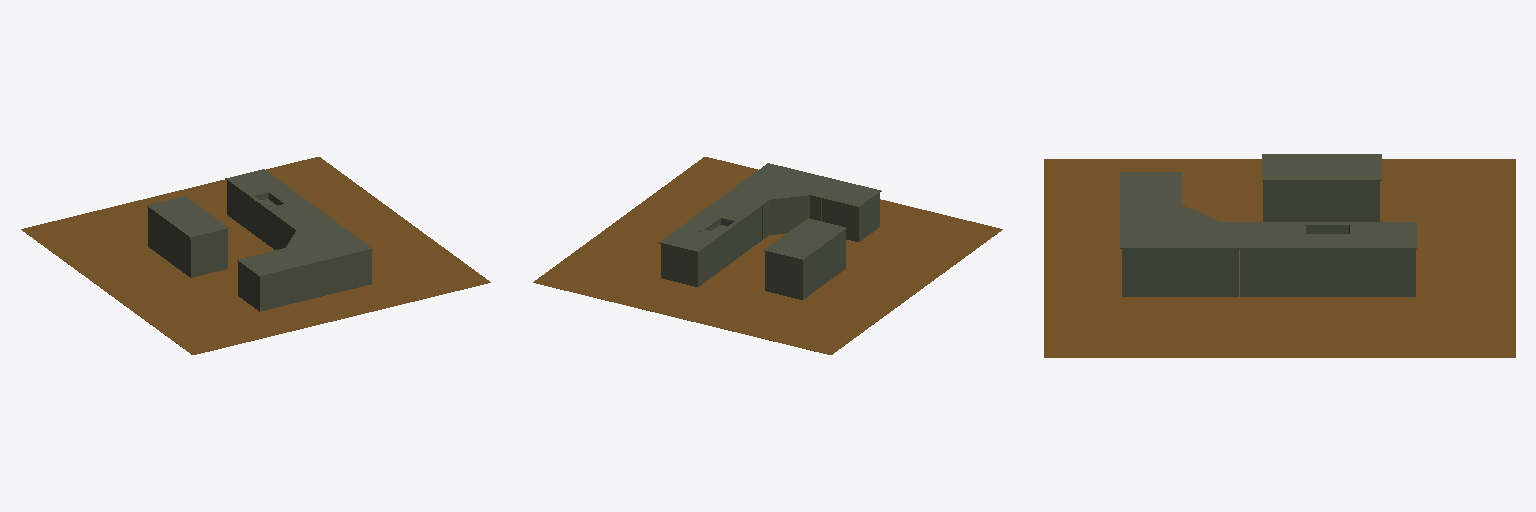
The robot description file, URDF, robot "Kitchen_static":
<?xml version="1.0"?>
<!-- created with Phobos 1.0.1 "Capricious Choutengan" -->
  <robot name="Kitchen_static">

    <link name="countertop1_link">
      <inertial>
        <origin xyz="0 0 0" rpy="0 0 0"/>
        <mass value="0.001"/>
        <inertia ixx="0.001" ixy="0" ixz="0" iyy="0.001" iyz="0" izz="0.001"/>
      </inertial>
      <visual name="Countertop_Top1">
        <origin xyz="0 -0.00258 -0.00031" rpy="0 0 0"/>
        <geometry>
          <mesh filename="package://Kitchen_static/meshes/dae/Cube.152.dae" scale="1.0 1.0 1.0"/>
        </geometry>
        <material name="GenericCounterMaterial"/>
      </visual>
      <collision name="Countertop_Top1.000">
        <origin xyz="0 -0.00258 -0.00061" rpy="0 0 0"/>
        <geometry>
          <mesh filename="package://Kitchen_static/meshes/dae/Cube.153.dae" scale="1.0 1.0 1.0"/>
        </geometry>
      </collision>
    </link>

    <link name="countertop_corner_link">
      <inertial>
        <origin xyz="0 0 0" rpy="0 0 0"/>
        <mass value="0.001"/>
        <inertia ixx="0.001" ixy="0" ixz="0" iyy="0.001" iyz="0" izz="0.001"/>
      </inertial>
      <visual name="Countertop_Corner_Base">
        <origin xyz="0 0 0" rpy="0 0 0"/>
        <geometry>
          <mesh filename="package://Kitchen_static/meshes/dae/Cube.154.dae" scale="1.0 1.0 1.0"/>
        </geometry>
        <material name="GenericCounterMaterial"/>
      </visual>
      <collision name="Countertop_Corner_Base.000">
        <origin xyz="0.0007 -0.00555 0.0003" rpy="0 0 0"/>
        <geometry>
          <mesh filename="package://Kitchen_static/meshes/dae/Cube.158.dae" scale="1.0 1.0 1.0"/>
        </geometry>
      </collision>
    </link>

    <link name="countertop_edge_link">
      <inertial>
        <origin xyz="0 0 0" rpy="0 0 0"/>
        <mass value="0.001"/>
        <inertia ixx="0.001" ixy="0" ixz="0" iyy="0.001" iyz="0" izz="0.001"/>
      </inertial>
      <visual name="Countertop_Top.001">
        <origin xyz="0 0 0" rpy="0 0 0"/>
        <geometry>
          <mesh filename="package://Kitchen_static/meshes/dae/Cube.155.dae" scale="1.0 1.0 1.0"/>
        </geometry>
        <material name="GenericCounterMaterial"/>
      </visual>
      <collision name="Countertop_Top.001.000">
        <origin xyz="0 0 6e-05" rpy="0 0 0"/>
        <geometry>
          <mesh filename="package://Kitchen_static/meshes/dae/Cube.156.dae" scale="1.0 1.0 1.0"/>
        </geometry>
      </collision>
    </link>

    <link name="countertop_link">
      <inertial>
        <origin xyz="0 0 0" rpy="0 0 0"/>
        <mass value="0.001"/>
        <inertia ixx="0.001" ixy="0" ixz="0" iyy="0.001" iyz="0" izz="0.001"/>
      </inertial>
      <visual name="Countertop_Top">
        <origin xyz="0 0 0" rpy="0 0 0"/>
        <geometry>
          <mesh filename="package://Kitchen_static/meshes/dae/Cube.142.dae" scale="1.0 1.0 1.0"/>
        </geometry>
        <material name="GenericCounterMaterial"/>
      </visual>
      <collision name="Countertop_Top.col">
        <origin xyz="0 0 0.00015" rpy="0 0 0"/>
        <geometry>
          <mesh filename="package://Kitchen_static/meshes/dae/Cube.143.dae" scale="1.0 1.0 1.0"/>
        </geometry>
      </collision>
    </link>

    <link name="countertop_sink_link">
      <inertial>
        <origin xyz="0 0 0" rpy="0 0 0"/>
        <mass value="0.001"/>
        <inertia ixx="0.001" ixy="0" ixz="0" iyy="0.001" iyz="0" izz="0.001"/>
      </inertial>
      <visual name="Countertop_Sink">
        <origin xyz="0 0 0" rpy="0 0 0"/>
        <geometry>
          <mesh filename="package://Kitchen_static/meshes/dae/Cube.146.dae" scale="1.0 1.0 1.0"/>
        </geometry>
        <material name="GenericCounterMaterial"/>
      </visual>
      <collision name="Countertop_Sink.000">
        <origin xyz="0 0 -0.00261" rpy="0 0 0"/>
        <geometry>
          <mesh filename="package://Kitchen_static/meshes/dae/Cube.147.dae" scale="1.0 1.0 1.0"/>
        </geometry>
      </collision>
    </link>

    <link name="countertop_tall2_link">
      <inertial>
        <origin xyz="0 0 0" rpy="0 0 0"/>
        <mass value="0.001"/>
        <inertia ixx="0.001" ixy="0" ixz="0" iyy="0.001" iyz="0" izz="0.001"/>
      </inertial>
      <visual name="Countertop_Top_Taller2">
        <origin xyz="0 0 0" rpy="0 0 0"/>
        <geometry>
          <mesh filename="package://Kitchen_static/meshes/dae/Cube.008.dae" scale="1.0 1.0 1.0"/>
        </geometry>
        <material name="GenericCounterMaterial"/>
      </visual>
      <collision name="Countertop_Top_Taller2.000">
        <origin xyz="0 0 0.00057" rpy="0 0 0"/>
        <geometry>
          <mesh filename="package://Kitchen_static/meshes/dae/Cube.000.dae" scale="1.0 1.0 1.0"/>
        </geometry>
      </collision>
    </link>

    <link name="countertop_tall_link">
      <inertial>
        <origin xyz="0 0 0" rpy="0 0 0"/>
        <mass value="0.001"/>
        <inertia ixx="0.001" ixy="0" ixz="0" iyy="0.001" iyz="0" izz="0.001"/>
      </inertial>
      <visual name="Countertop_Top_Taller">
        <origin xyz="0 0 0" rpy="0 0 0"/>
        <geometry>
          <mesh filename="package://Kitchen_static/meshes/dae/Cube.157.dae" scale="1.0 1.0 1.0"/>
        </geometry>
        <material name="GenericCounterMaterial"/>
      </visual>
      <collision name="Countertop_Top_Taller.000">
        <origin xyz="0 0 -0.00019" rpy="0 0 0"/>
        <geometry>
          <mesh filename="package://Kitchen_static/meshes/dae/Cube.159.dae" scale="1.0 1.0 1.0"/>
        </geometry>
      </collision>
    </link>

    <link name="root_static">
      <inertial>
        <origin xyz="0 0 0" rpy="0 0 0"/>
        <mass value="0.001"/>
        <inertia ixx="0.001" ixy="0" ixz="0" iyy="0.001" iyz="0" izz="0.001"/>
      </inertial>
      <visual name="Floor">
        <origin xyz="0 0 0" rpy="0 0 0"/>
        <geometry>
          <box size="8.0 8.0 0.002"/>
        </geometry>
        <material name="Floor_Material"/>
      </visual>
      <collision name="Floor">
        <origin xyz="0 0 0" rpy="0 0 0"/>
        <geometry>
          <box size="8.0 8.0 0.002"/>
        </geometry>
      </collision>
    </link>

    <joint name="countertop1_link" type="fixed">
      <origin xyz="1.04436 -0.18407 0.90913" rpy="0 0 0"/>
      <parent link="root_static"/>
      <child link="countertop1_link"/>
    </joint>

    <joint name="countertop_corner_link" type="floating">
      <origin xyz="0.63422 -1.78146 0.44381" rpy="0 0 -3.14159"/>
      <parent link="root_static"/>
      <child link="countertop_corner_link"/>
    </joint>

    <joint name="countertop_edge_link" type="fixed">
      <origin xyz="-0.95636 -2.19209 0.90906" rpy="0 0 0"/>
      <parent link="root_static"/>
      <child link="countertop_edge_link"/>
    </joint>

    <joint name="countertop_link" type="fixed">
      <origin xyz="1.04436 1.80656 0.90913" rpy="0 0 0"/>
      <parent link="root_static"/>
      <child link="countertop_link"/>
    </joint>

    <joint name="countertop_sink_link" type="fixed">
      <origin xyz="1.04357 0.81118 0.90952" rpy="0 0 3.14154"/>
      <parent link="root_static"/>
      <child link="countertop_sink_link"/>
    </joint>

    <joint name="countertop_tall2_link" type="fixed">
      <origin xyz="-1.41531 1.20516 0.92078" rpy="0 0 0"/>
      <parent link="root_static"/>
      <child link="countertop_tall2_link"/>
    </joint>

    <joint name="countertop_tall_link" type="fixed">
      <origin xyz="-1.41586 0.20737 0.92078" rpy="0 0 0"/>
      <parent link="root_static"/>
      <child link="countertop_tall_link"/>
    </joint>

    <material name="Floor_Material">
      <color rgba="0.51303 0.37541 0.19019 1.0"/>
    </material>

    <material name="GenericCounterMaterial">
      <color rgba="0.36791 0.38159 0.31374 1.0"/>
    </material>

  </robot>

--- Facts derived from the render (not from the file) ---
The picture shows the robot from 3 angles, left to right: view 1: azimuth 30°, elevation 25°; view 2: azimuth 150°, elevation 25°; view 3: azimuth 270°, elevation 25°; orthographic projection.
Robot: Kitchen_static — 8 links, 7 joints (6 fixed, 1 floating); root link root_static; default pose: every joint at zero.
Links seen in each view (by area): view 1: root_static, countertop_corner_link, countertop_tall_link, countertop_edge_link, countertop_tall2_link, countertop_sink_link, countertop_link, countertop1_link; view 2: root_static, countertop_corner_link, countertop_tall2_link, countertop_link, countertop_edge_link, countertop_tall_link, countertop_sink_link, countertop1_link; view 3: root_static, countertop_corner_link, countertop_sink_link, countertop_link, countertop1_link, countertop_tall2_link, countertop_tall_link, countertop_edge_link.
Link boxes in pixels (x1,y1,x2,y2): root_static: (21, 157, 490, 354); countertop_corner_link: (275, 216, 372, 301); countertop_tall_link: (168, 212, 228, 277); countertop_edge_link: (237, 251, 297, 311); countertop_tall2_link: (147, 196, 206, 261); countertop_sink_link: (247, 185, 306, 245); countertop_link: (225, 169, 284, 229); countertop1_link: (269, 201, 327, 249); root_static: (533, 157, 1002, 354); countertop_corner_link: (725, 163, 843, 239); countertop_tall2_link: (764, 234, 824, 299); countertop_link: (659, 227, 719, 286); countertop_edge_link: (822, 182, 881, 241); countertop_tall_link: (787, 218, 846, 283); countertop_sink_link: (681, 210, 741, 271); countertop1_link: (704, 195, 762, 255); root_static: (1044, 159, 1515, 357); countertop_corner_link: (1120, 197, 1239, 296); countertop_sink_link: (1297, 222, 1357, 296); countertop_link: (1356, 222, 1416, 296); countertop1_link: (1238, 222, 1299, 296); countertop_tall2_link: (1320, 154, 1381, 221); countertop_tall_link: (1262, 154, 1321, 221); countertop_edge_link: (1120, 172, 1181, 196).
Bounding box of the posed robot: 8 × 8 × 1.06 m (x, y, z).
7 mesh visuals loaded from 7 distinct referenced files (7 Collada DAE).